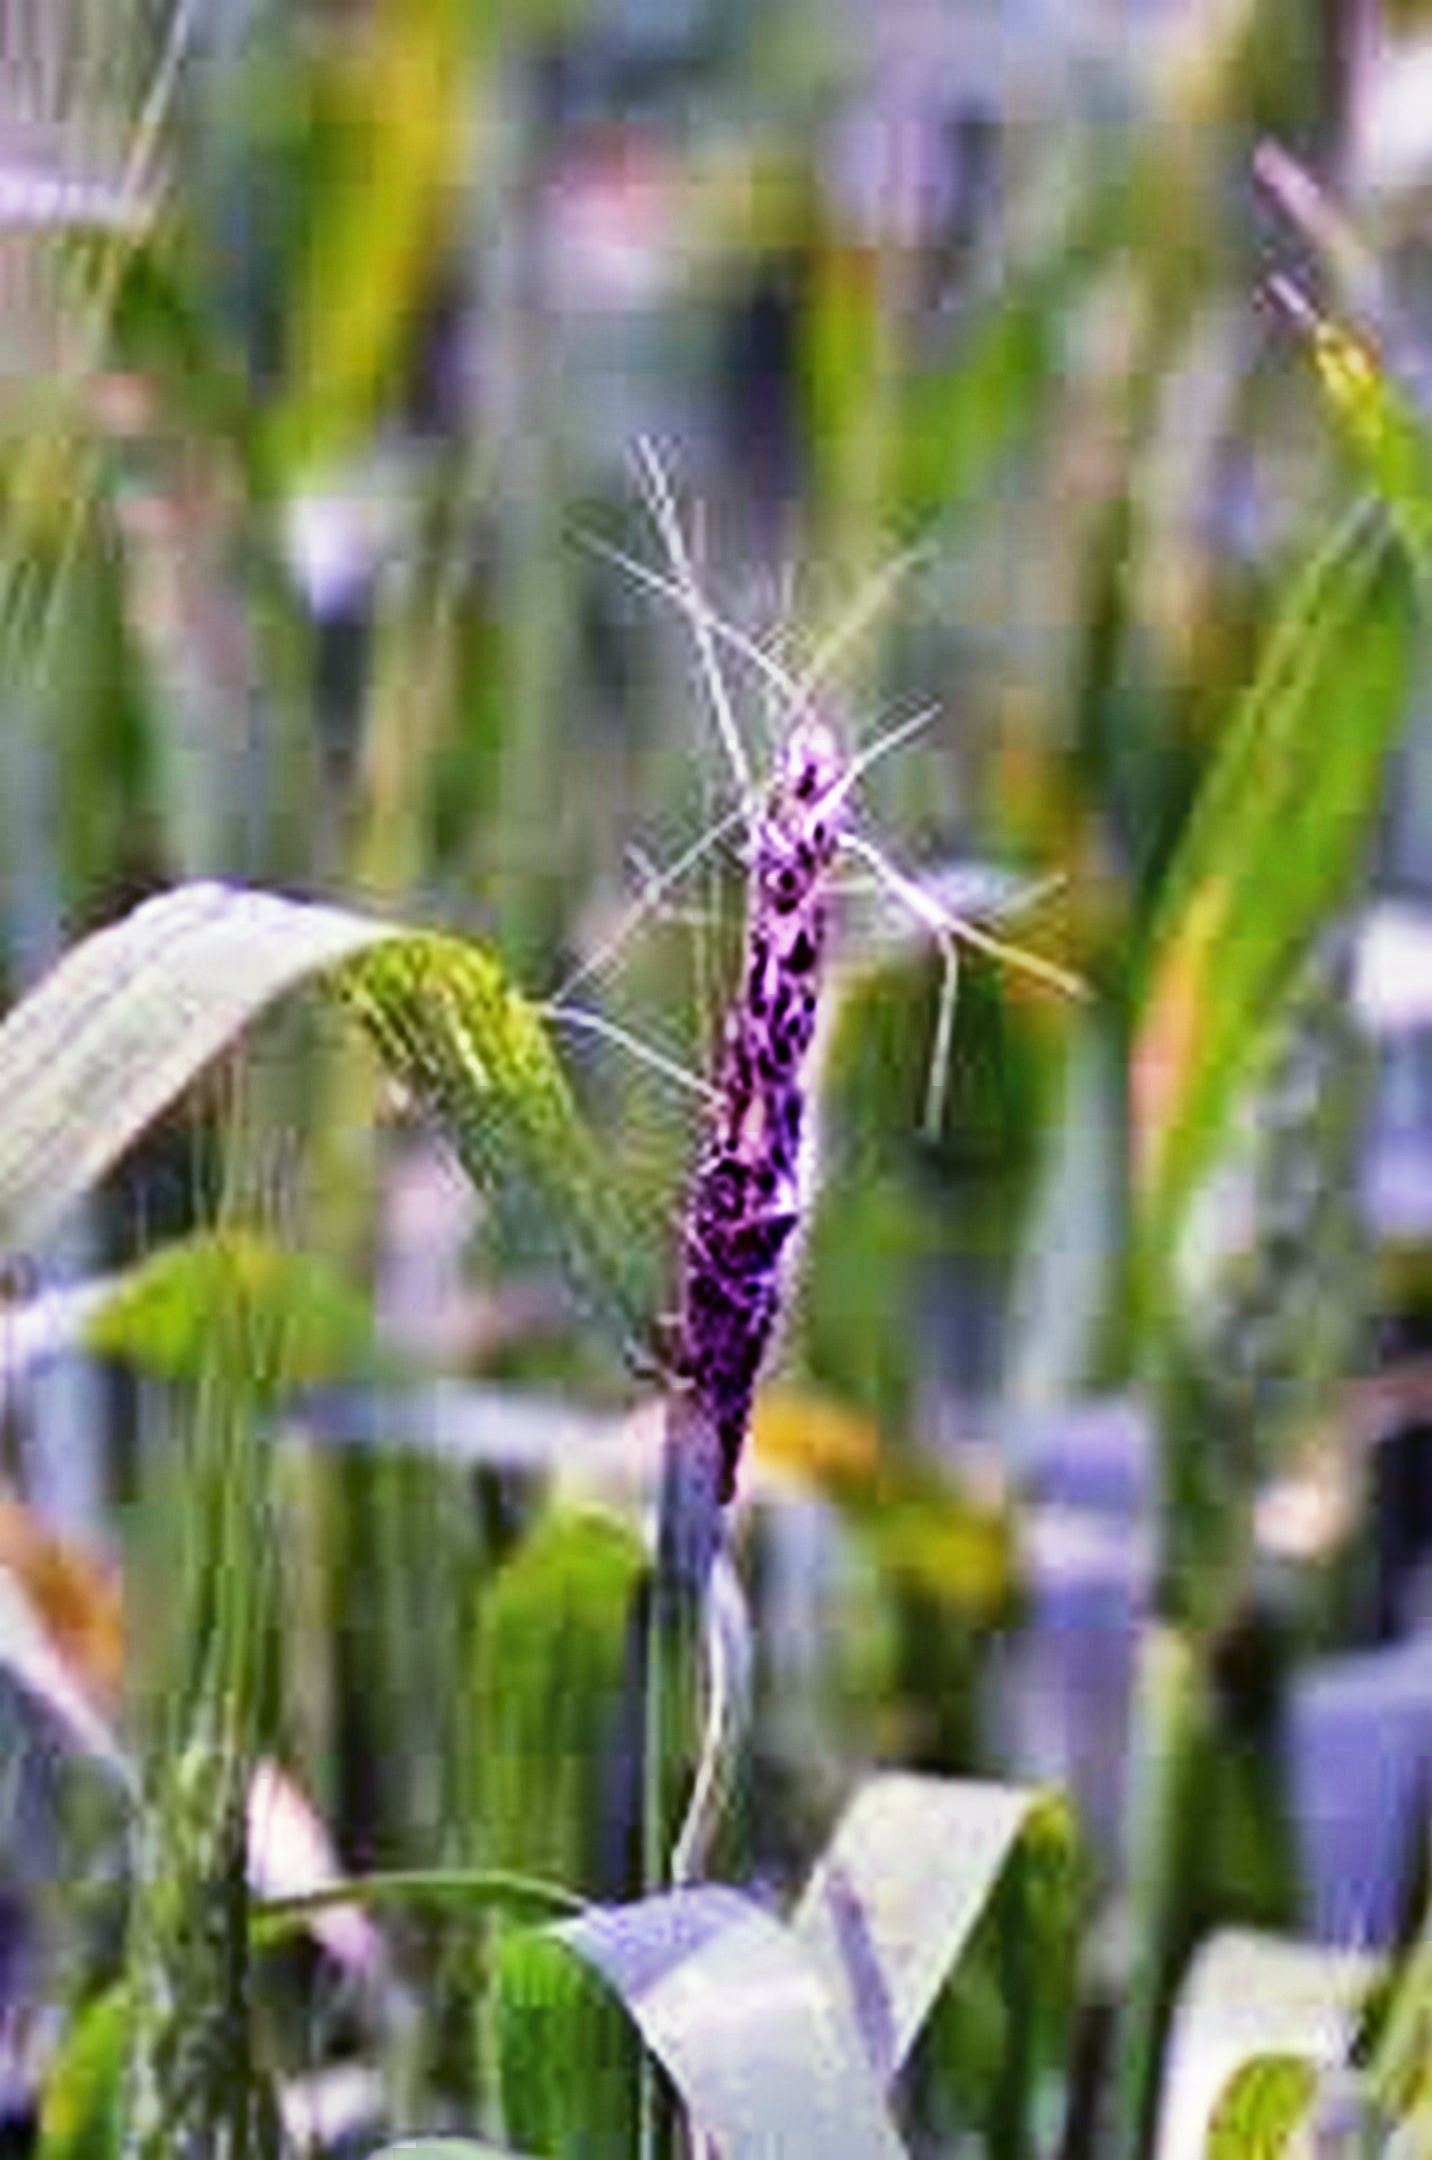Wheat Loose Smut: (650, 689, 874, 1467)
